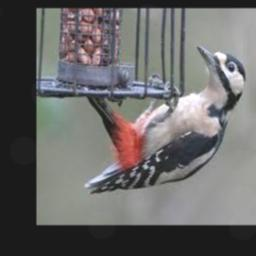Woodpecker: (84, 45, 246, 194)
